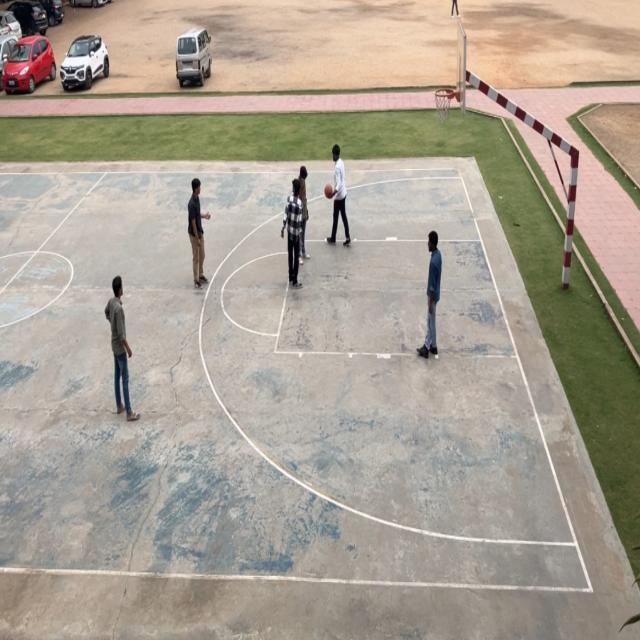basketball: (324, 183, 334, 199)
hoop: (434, 86, 455, 124)
